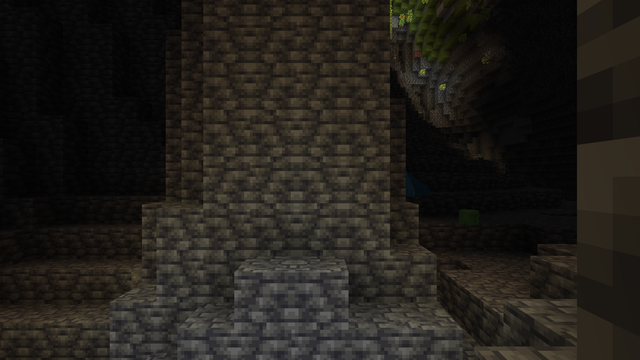slimes: (458, 208, 480, 224)
